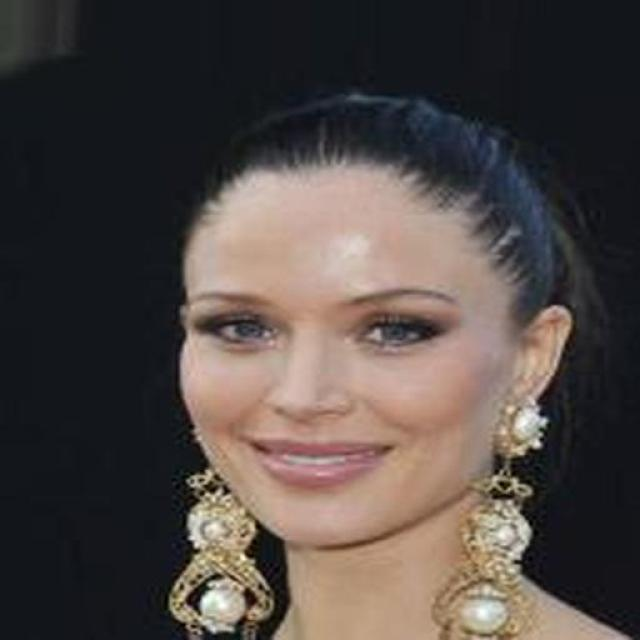bareface: (172, 178, 580, 546)
